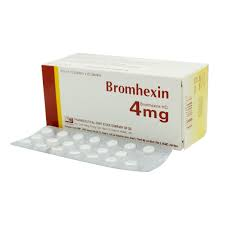Bromhexin: (103, 78, 169, 100)
